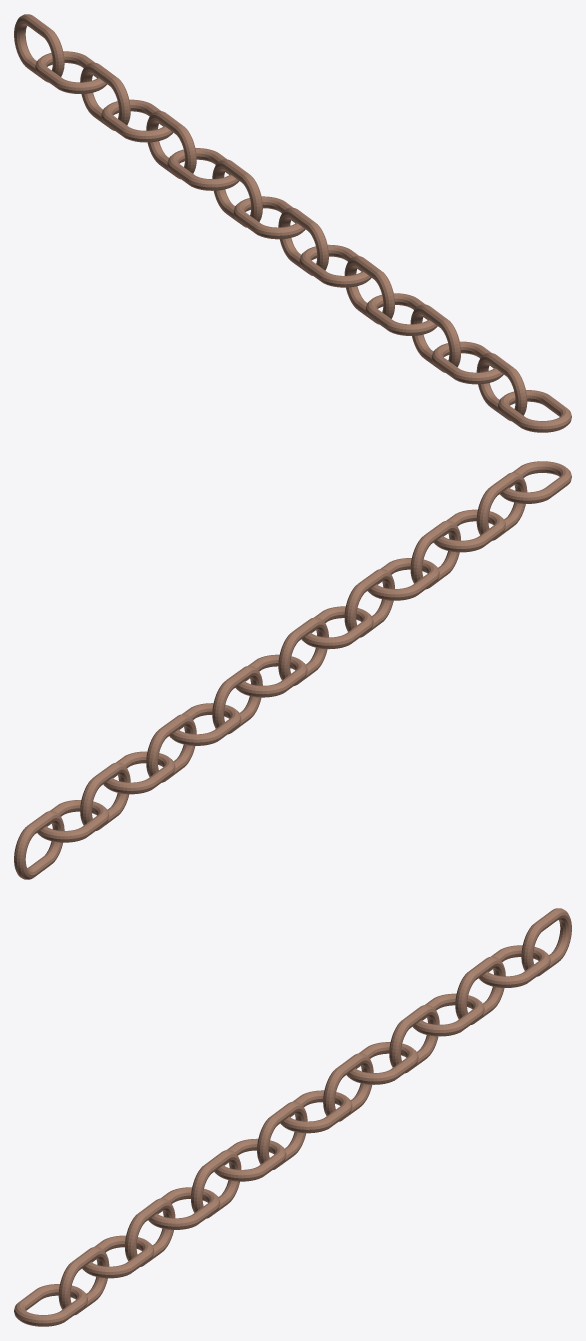
The model's file is Chainblend.fbx.
3 views of the same model, one above another, from view 1: azimuth 30°, elevation 25°; view 2: azimuth 150°, elevation 25°; view 3: azimuth 330°, elevation 25° (orthographic).
Parts seen in each view (by area): view 1: Torus, Torus.011, Torus.014, Torus.002, Torus.015, Torus.006, Torus.010, Torus.003, Torus.007, Torus.004, Torus.009, Torus.017 (+4 smaller); view 2: Torus.011, Torus, Torus.002, Torus.006, Torus.007, Torus.015, Torus.014, Torus.010, Torus.003, Torus.017, Torus.004, Torus.013 (+4 smaller); view 3: Torus, Torus.011, Torus.014, Torus.002, Torus.015, Torus.006, Torus.010, Torus.003, Torus.007, Torus.004, Torus.009, Torus.017 (+4 smaller).
Part boxes in pixels (<box>): Torus: <box>498,390,571,432</box>; Torus.011: <box>14,14,64,82</box>; Torus.014: <box>146,111,196,179</box>; Torus.002: <box>476,353,527,421</box>; Torus.015: <box>212,159,262,227</box>; Torus.006: <box>278,207,328,275</box>; Torus.010: <box>80,62,130,130</box>; Torus.003: <box>410,304,460,372</box>; Torus.007: <box>344,256,394,324</box>; Torus.004: <box>431,341,503,384</box>; Torus.009: <box>101,99,173,142</box>; Torus.017: <box>233,196,305,239</box>; Torus.011: <box>14,811,64,879</box>; Torus: <box>500,461,571,503</box>; Torus.002: <box>476,472,527,540</box>; Torus.006: <box>278,617,328,685</box>; Torus.007: <box>344,569,394,637</box>; Torus.015: <box>212,666,262,734</box>; Torus.014: <box>146,714,196,782</box>; Torus.010: <box>80,762,130,830</box>; Torus.003: <box>410,521,460,589</box>; Torus.017: <box>235,654,307,697</box>; Torus.004: <box>433,509,505,552</box>; Torus.013: <box>169,703,241,745</box>; Torus: <box>14,1284,87,1326</box>; Torus.011: <box>521,908,571,976</box>; Torus.014: <box>389,1005,439,1073</box>; Torus.002: <box>58,1247,109,1315</box>; Torus.015: <box>323,1053,373,1121</box>; Torus.006: <box>257,1101,307,1169</box>; Torus.010: <box>455,956,505,1024</box>; Torus.003: <box>125,1198,175,1266</box>; Torus.007: <box>191,1150,241,1218</box>; Torus.004: <box>82,1235,154,1278</box>; Torus.009: <box>412,993,484,1036</box>; Torus.017: <box>280,1090,352,1133</box>.
Size of the model in its own units: 55.07 by 55.07 by 1012.
